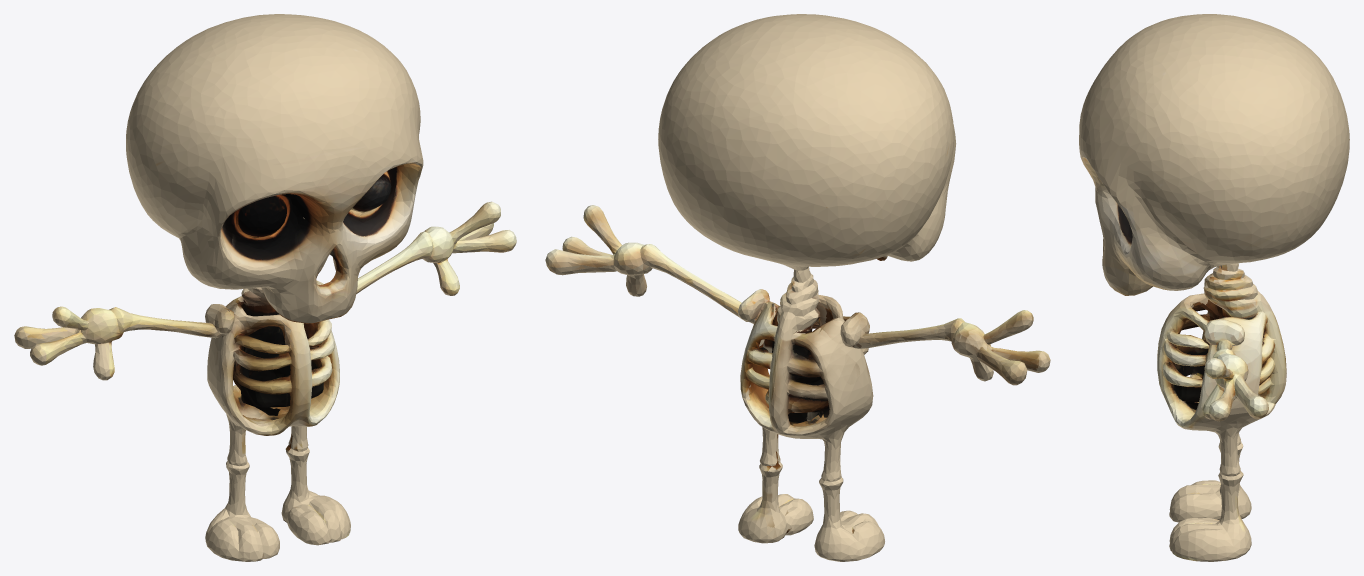
The model's file is SkeletonModel(Origin).fbx.
The picture shows the model from 3 angles, left to right: view 1: azimuth 30°, elevation 25°; view 2: azimuth 150°, elevation 25°; view 3: azimuth 270°, elevation 25°; orthographic projection.
Visible parts, largest first — view 1: world; view 2: world; view 3: world.
Part boxes in pixels (x1=…): world: x1=14, y1=14, x2=516, y2=561; world: x1=545, y1=14, x2=1050, y2=561; world: x1=1079, y1=14, x2=1349, y2=561.
Bounding box in the file's own units: 100 × 100 × 49.28.
